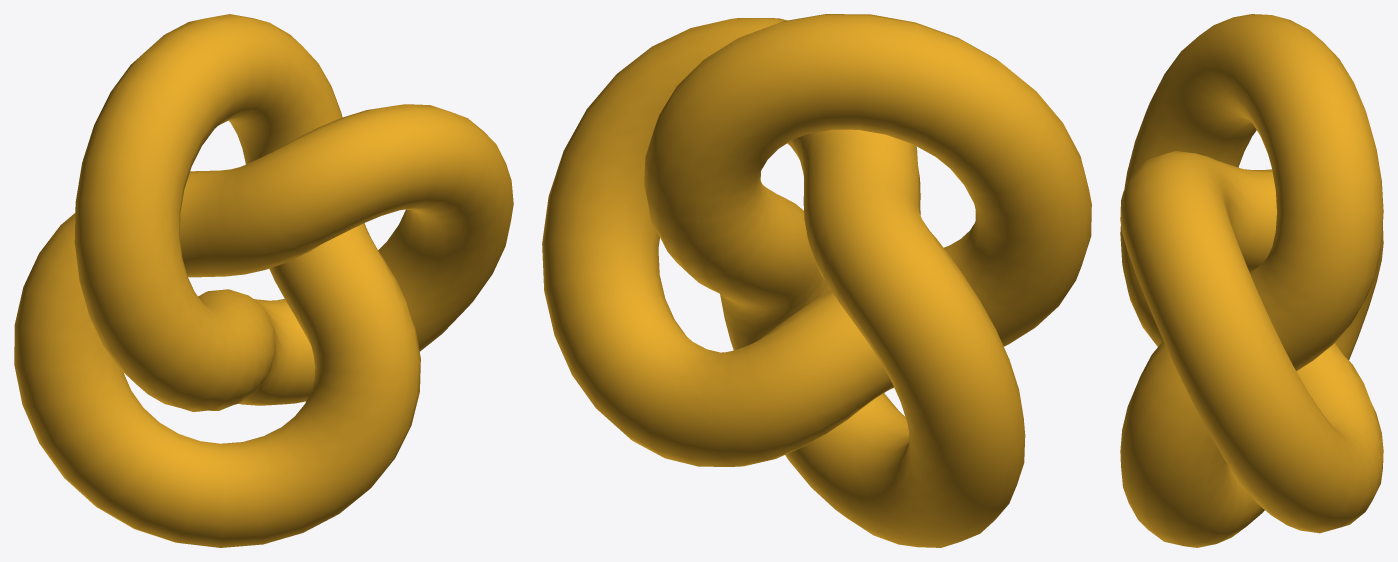
Rendered from spartan-loop.glb.
The picture shows the model from 3 angles, left to right: view 1: azimuth 30°, elevation 25°; view 2: azimuth 150°, elevation 25°; view 3: azimuth 270°, elevation 25°; orthographic projection. The views are drawn at different scales.
Visible parts, largest first — view 1: SpartanLoop; view 2: SpartanLoop; view 3: SpartanLoop.
Part boxes in pixels (box(x1,y1,x2,y2)): SpartanLoop: box(14, 14, 513, 547); SpartanLoop: box(542, 14, 1091, 547); SpartanLoop: box(1120, 14, 1383, 547).
Bounding box in the file's own units: 1.95 × 2.03 × 0.9745.
